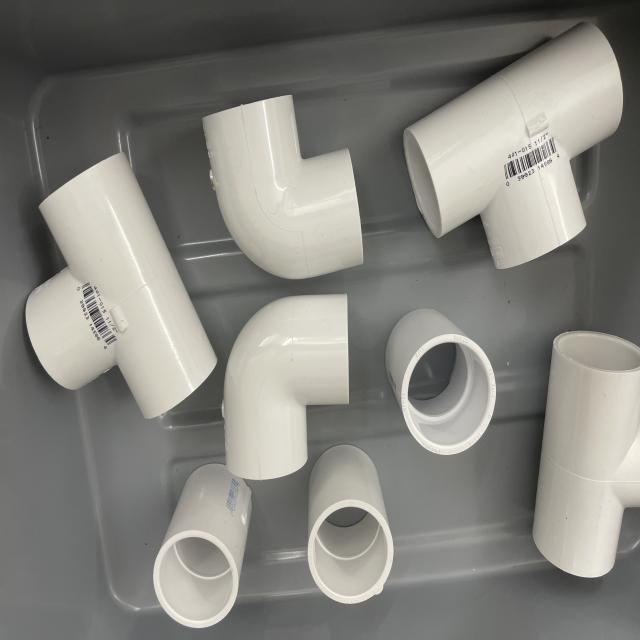L Joint: (201, 96, 366, 281)
T Joint: (402, 22, 624, 272), (24, 169, 217, 421), (222, 295, 349, 481)
